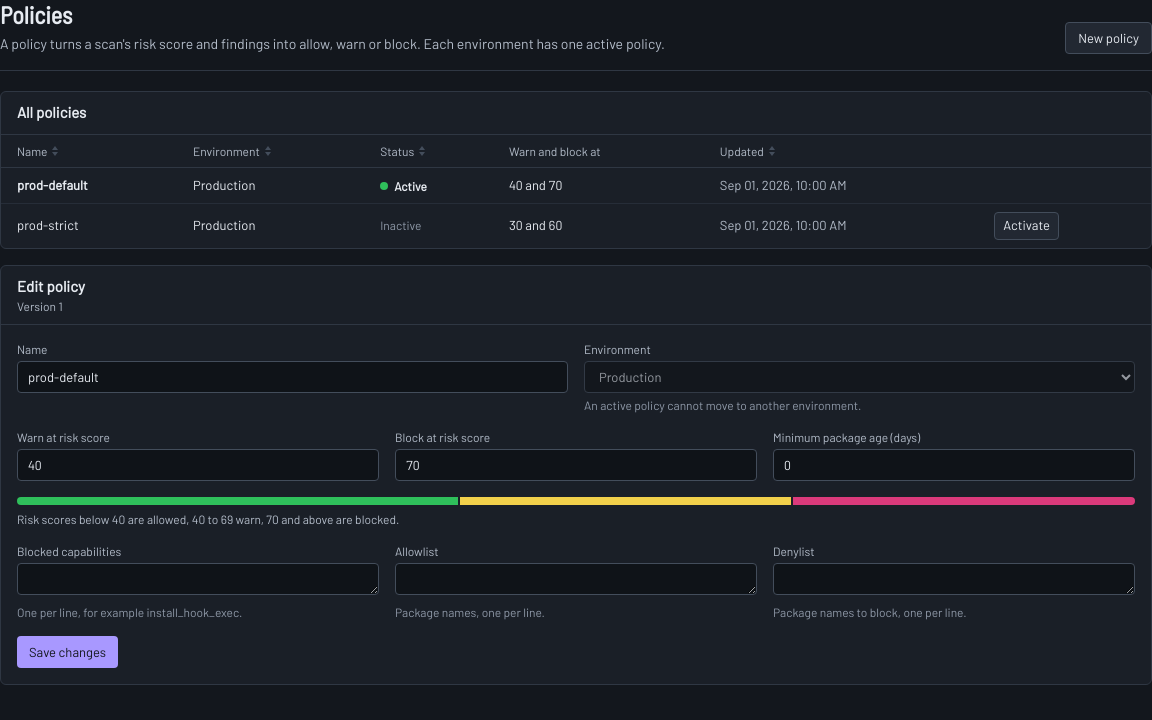
Test case: Policies › lets an admin save changes to the selected policy
The image size is (1152, 720).
Replace the text in the number field labelled "Warn at risk score" with "45" at (198, 465), box [17,449,379,481]
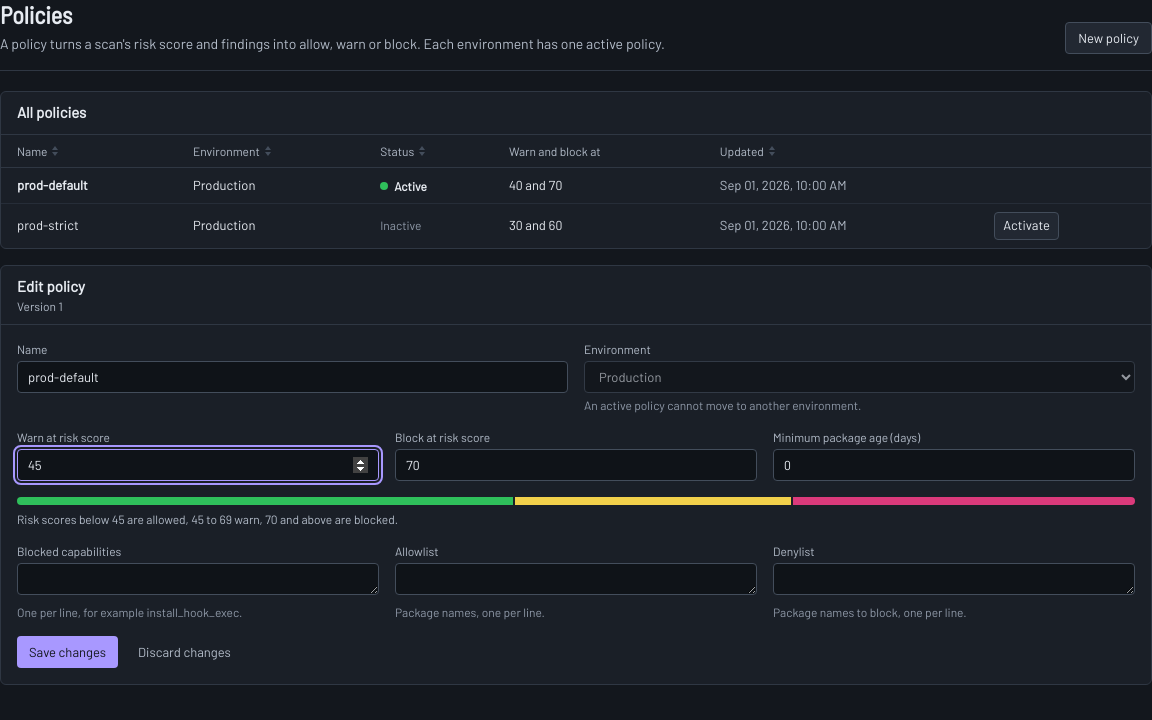
Click the button "Save changes" at (68, 652), box [17,636,118,668]
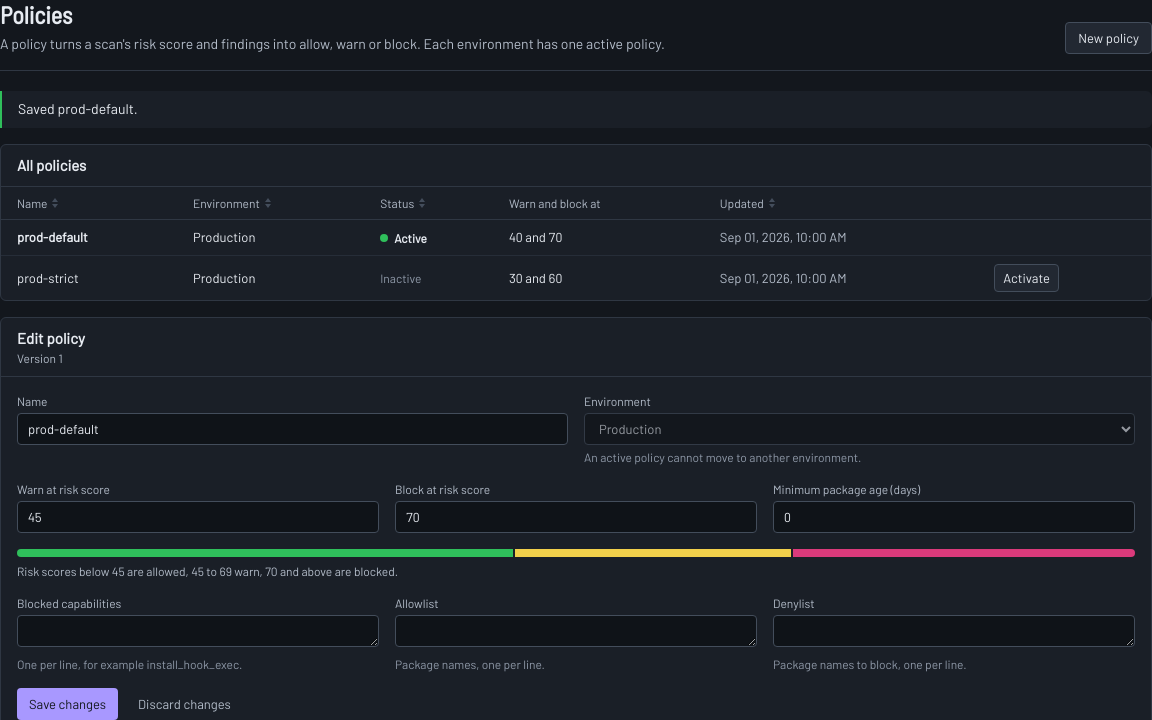
Expected: the text "Saved prod-default." is shown, [0,91,1151,128]
